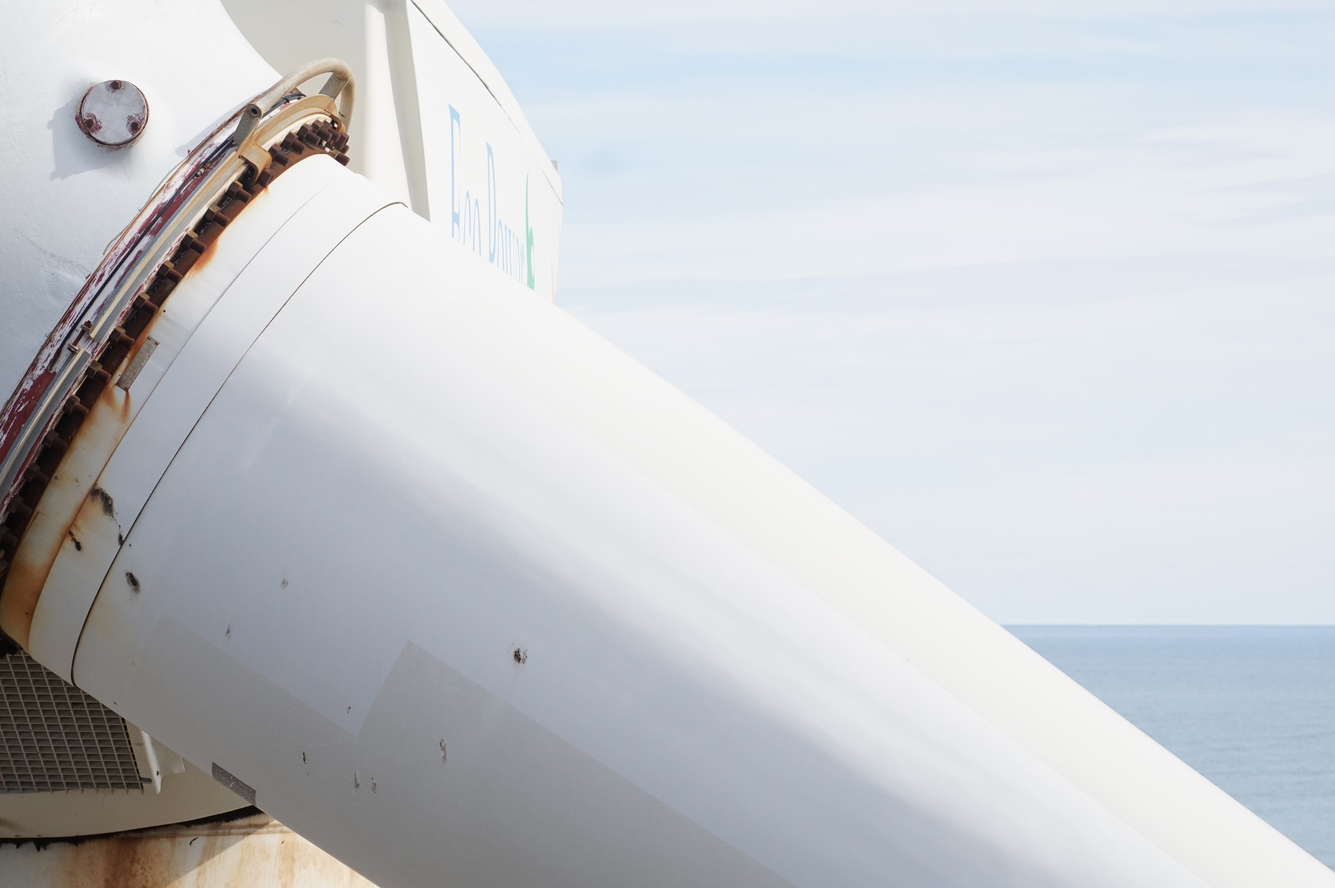Dirt: (125, 562, 149, 598), (511, 643, 531, 668)
